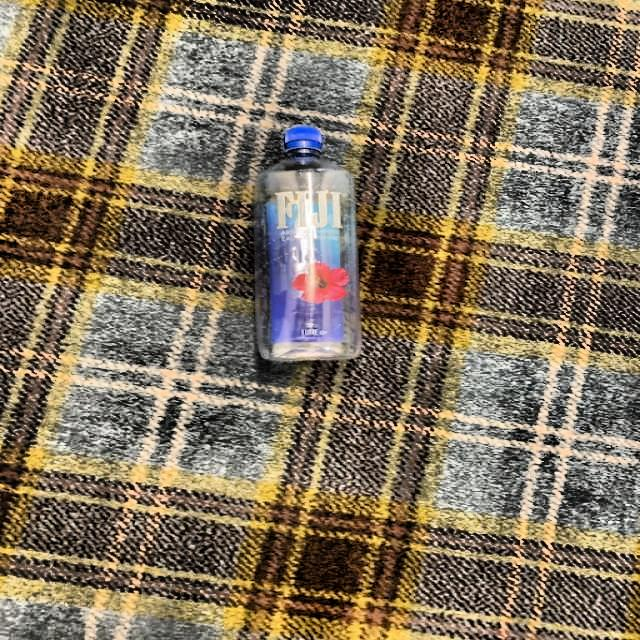plastic bottle: (255, 125, 362, 362)
